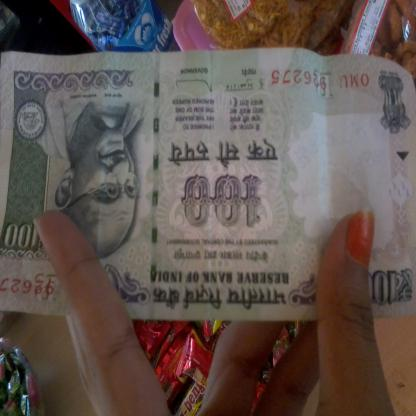Old100Front: (0, 46, 416, 322)
